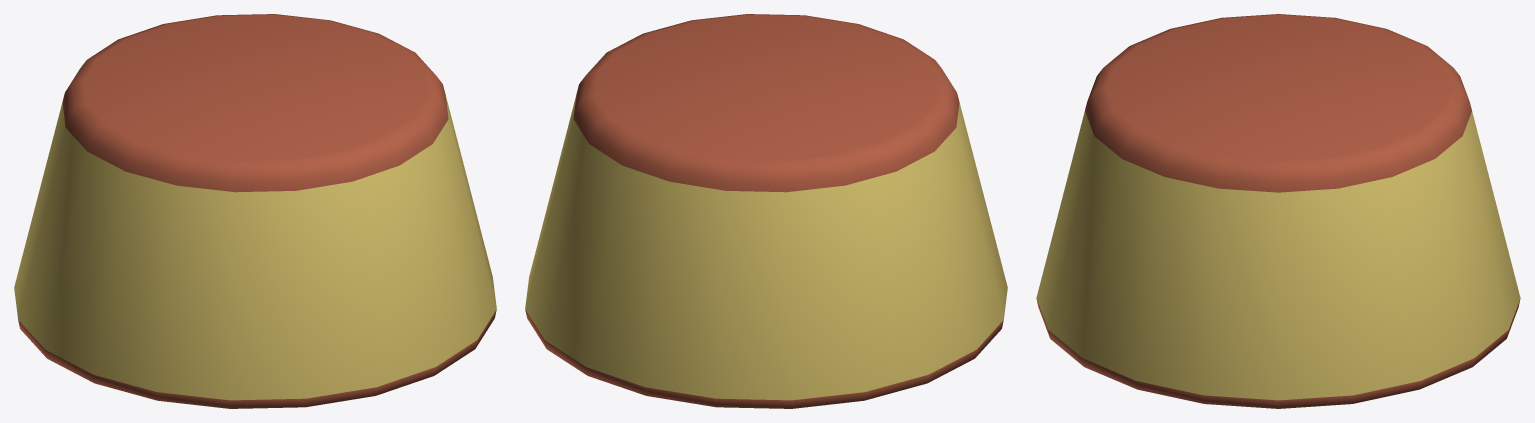
Rendered from Pudding.fbx.
3 views of the same model, side by side, from view 1: azimuth 30°, elevation 25°; view 2: azimuth 150°, elevation 25°; view 3: azimuth 270°, elevation 25° (orthographic).
Visible parts, largest first — view 1: sm_Flan; view 2: sm_Flan; view 3: sm_Flan.
Part boxes in pixels (x1=…): sm_Flan: x1=14, y1=14, x2=496, y2=408; sm_Flan: x1=525, y1=14, x2=1007, y2=408; sm_Flan: x1=1036, y1=14, x2=1520, y2=408.
Bounding box in the file's own units: 43.8 × 22.31 × 43.8.
